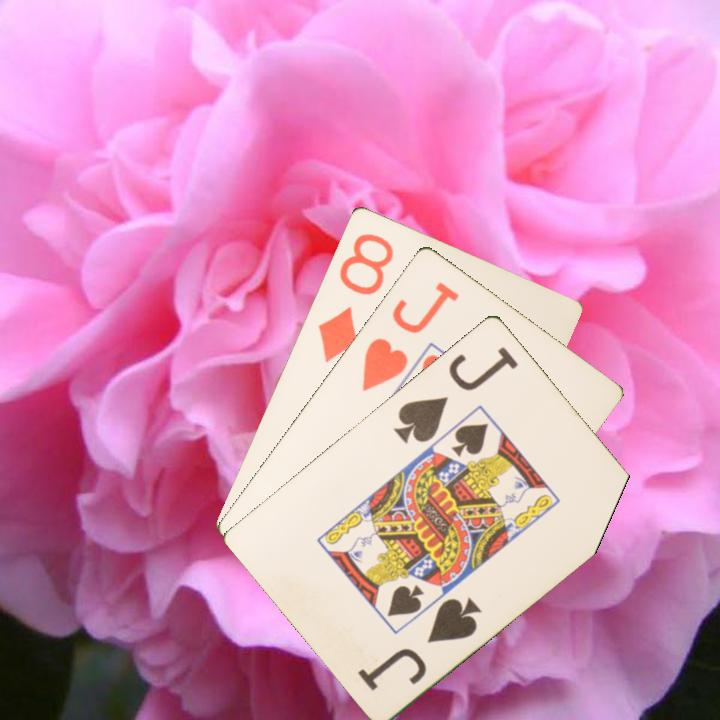8d: (314, 229, 397, 365)
Jh: (358, 277, 462, 394)
Js: (390, 342, 522, 447), (354, 592, 485, 694)
